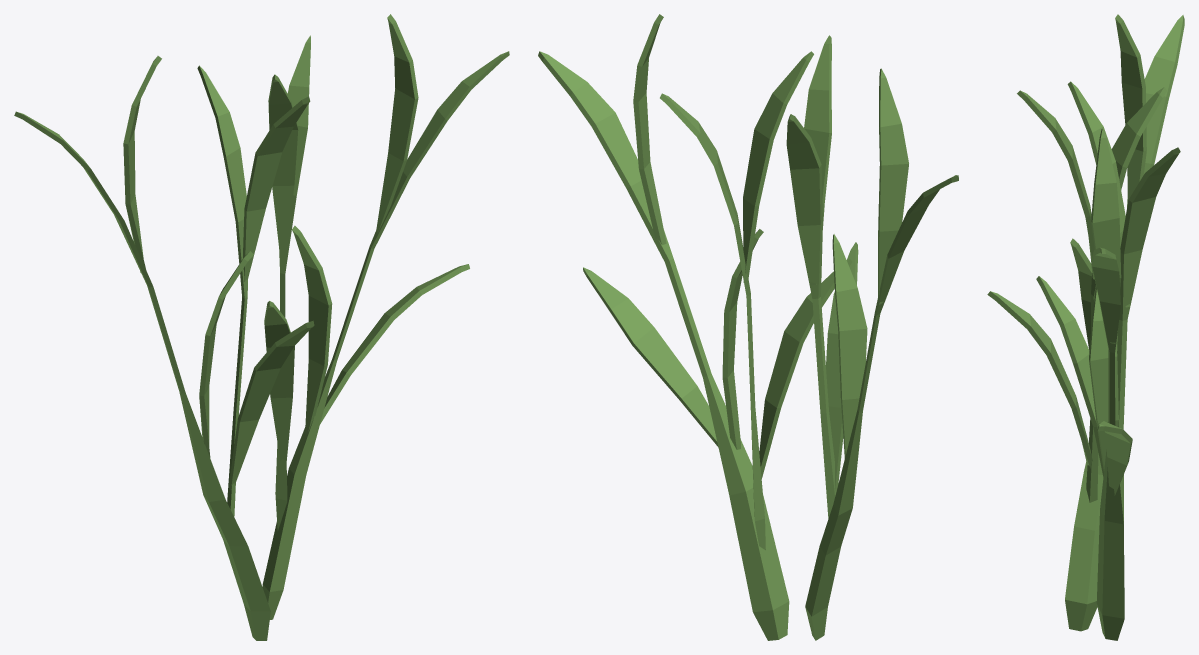
The model's file is Rice_3.glb.
3 renders of one model, left to right at view 1: azimuth 30°, elevation 25°; view 2: azimuth 150°, elevation 25°; view 3: azimuth 270°, elevation 25°, orthographic. The views are drawn at different scales.
Parts seen in each view (by area): view 1: Rice_3; view 2: Rice_3; view 3: Rice_3.
Boxes of the visible parts, x1,y1,x2,y2 form: Rice_3: (14,14,509,640); Rice_3: (538,14,958,640); Rice_3: (987,14,1184,640).
Size of the model in its own units: 0.6186 by 0.7691 by 0.2384.
